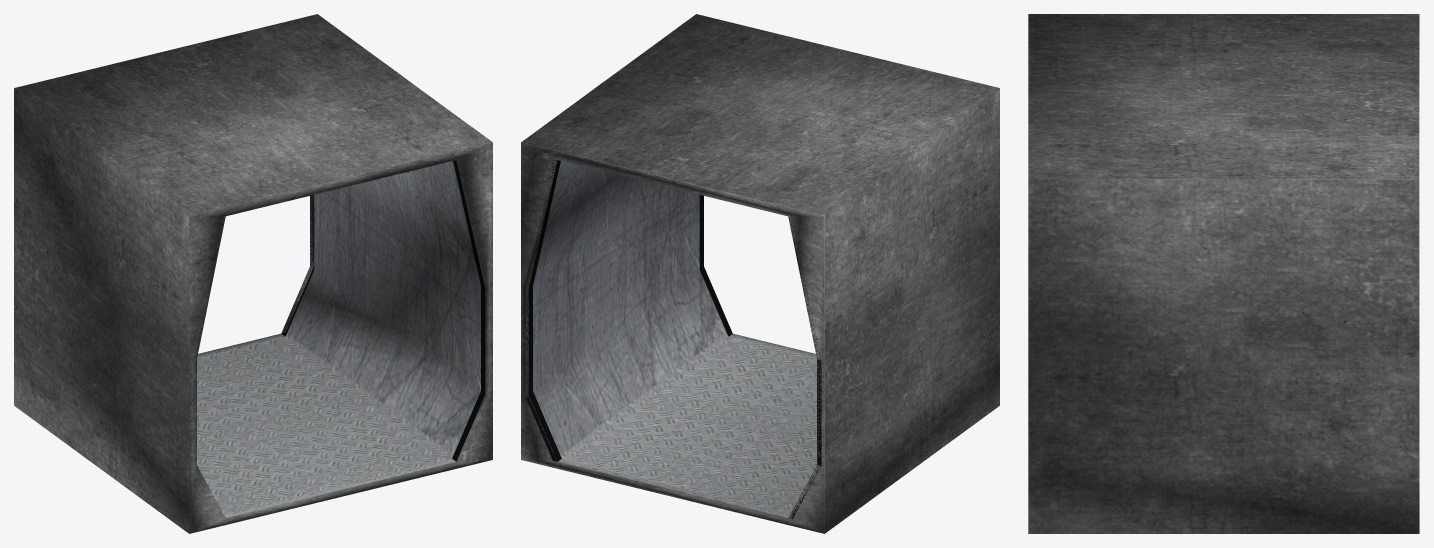
Rendered from rouka2nd.fbx.
3 renders of one model, left to right at view 1: azimuth 30°, elevation 25°; view 2: azimuth 150°, elevation 25°; view 3: azimuth 270°, elevation 25°, orthographic. The views are drawn at different scales.
Parts seen in each view (by area): view 1: Cube; view 2: Cube; view 3: Cube.
Boxes of the visible parts, box(x1,y1,x2,y2) form: Cube: box(14, 14, 492, 533); Cube: box(521, 14, 999, 533); Cube: box(1028, 14, 1419, 533).
Size of the model in its own units: 2 by 2 by 2.
